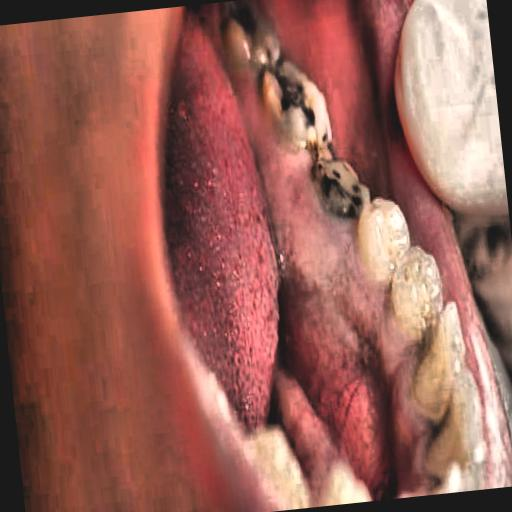Caries: (206, 4, 341, 104), (284, 89, 389, 212)
